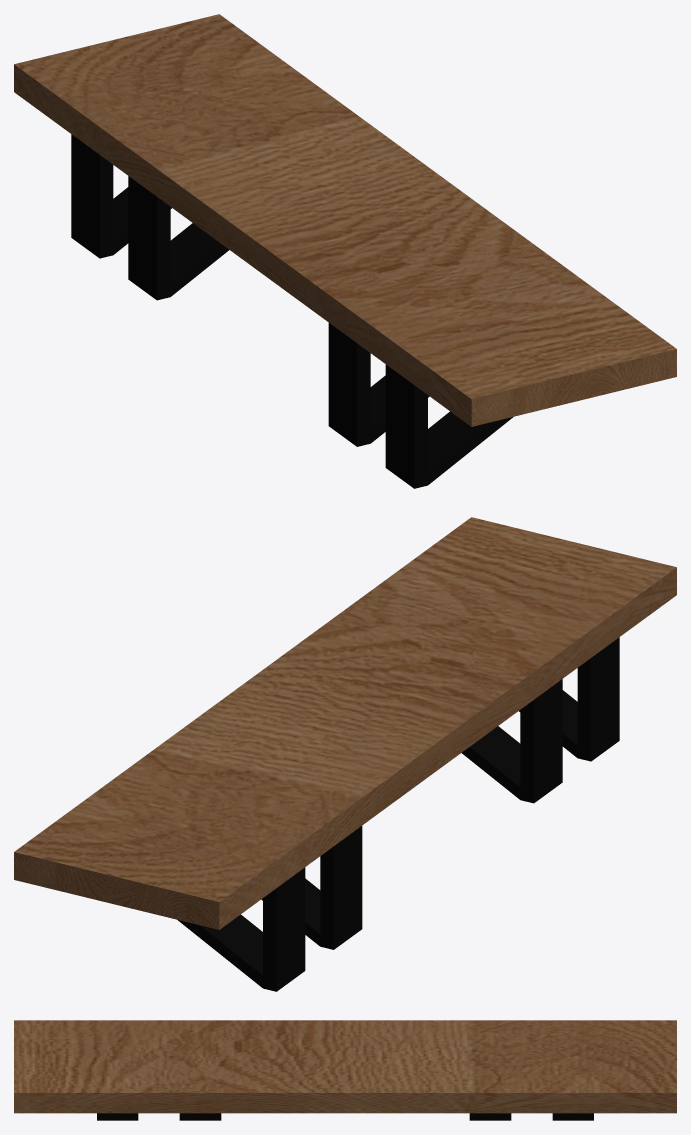
File: étagère 2.fbx
The picture shows the model from 3 angles, top to bottom: view 1: azimuth 30°, elevation 25°; view 2: azimuth 150°, elevation 25°; view 3: azimuth 270°, elevation 25°; orthographic projection. The views are drawn at different scales.
Visible parts, largest first — view 1: Cube.074; view 2: Cube.074; view 3: Cube.074.
Part boxes in pixels (bbox=[...]): Cube.074: bbox=[14, 14, 676, 488]; Cube.074: bbox=[14, 517, 676, 991]; Cube.074: bbox=[14, 1020, 676, 1120].
Bounding box in the file's own units: 40.24 × 24.62 × 155.
2 materials, 1 textured.
